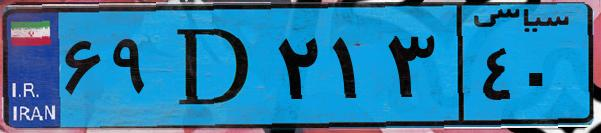0: (525, 38, 570, 115)
1: (330, 28, 385, 110)
2: (270, 28, 330, 110)
3: (385, 28, 445, 110)
4: (475, 38, 525, 113)
6: (57, 26, 110, 100)
9: (110, 28, 158, 98)
D: (158, 12, 270, 120)
